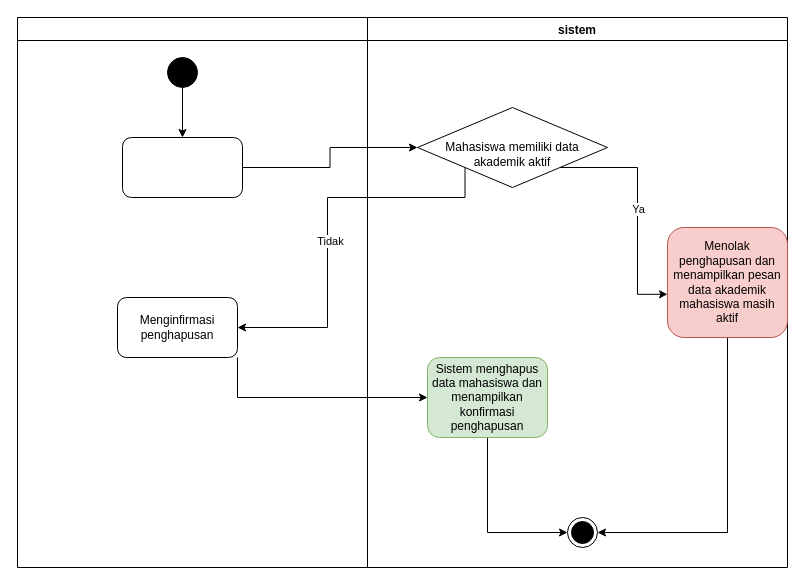
Image size: 805x585. Some labels were removed from this diagram. Each missing label, with the box of its shape:
Admin akademik: (16, 16, 368, 568)
memilih data mahasiswa yang akan dihapus: (122, 136, 242, 198)
